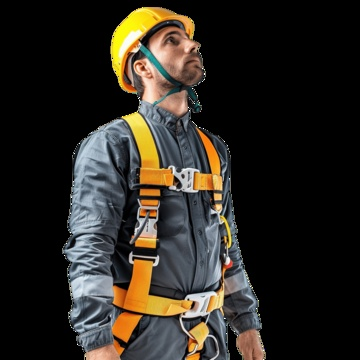Helmet: (107, 9, 177, 93)
Person: (87, 0, 240, 360)
Safety_Harness: (116, 115, 229, 360)
